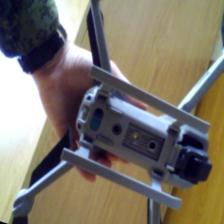drone: (17, 0, 224, 224)
